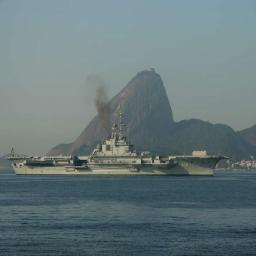Portanaves: (4, 100, 230, 181)
